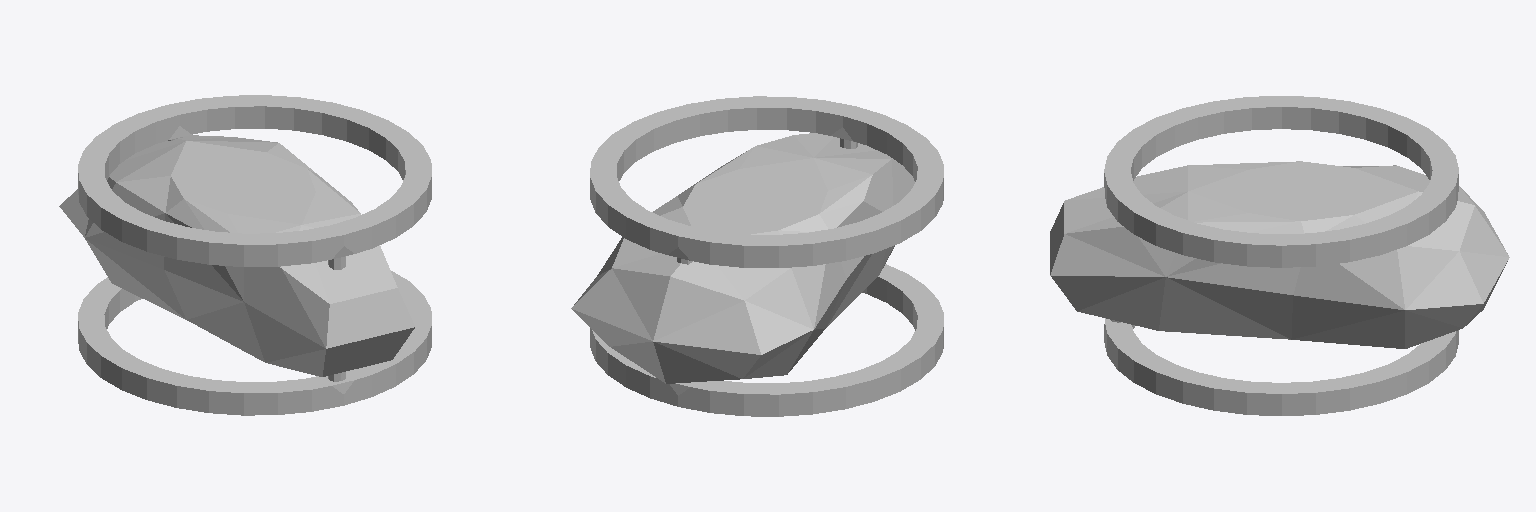
Rendered from receiver_drone_hulls.obj.
The picture shows the model from 3 angles: view 1: azimuth 30°, elevation 25°; view 2: azimuth 150°, elevation 25°; view 3: azimuth 270°, elevation 25°; orthographic projection.
Visible parts, largest first — view 1: Mesh_Tube3_Tube3_auv; view 2: Mesh_Tube3_Tube3_auv; view 3: Mesh_Tube3_Tube3_auv.
Boxes of the visible parts, x1=… form: Mesh_Tube3_Tube3_auv: x1=59, y1=95, x2=431, y2=415; Mesh_Tube3_Tube3_auv: x1=571, y1=96, x2=943, y2=416; Mesh_Tube3_Tube3_auv: x1=1050, y1=96, x2=1509, y2=415.
Size of the model in its own units: 0.6 by 0.3181 by 0.7761.